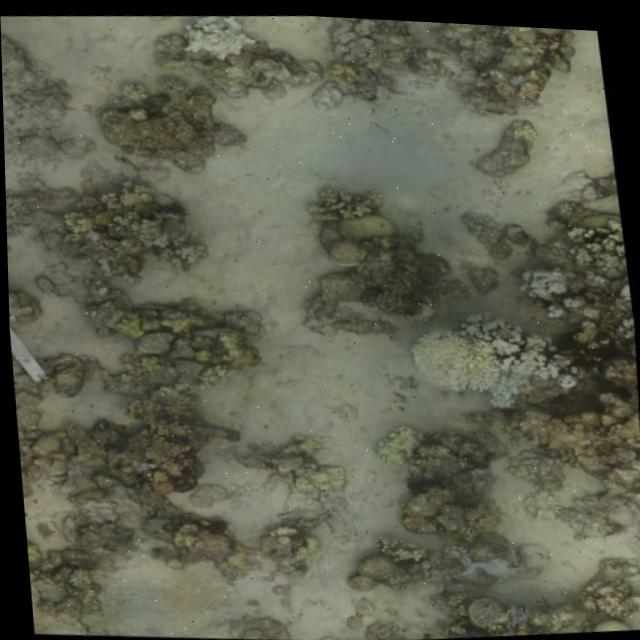Bleached Coral: (400, 318, 571, 424), (174, 10, 269, 76), (509, 268, 599, 335), (496, 602, 534, 631)
